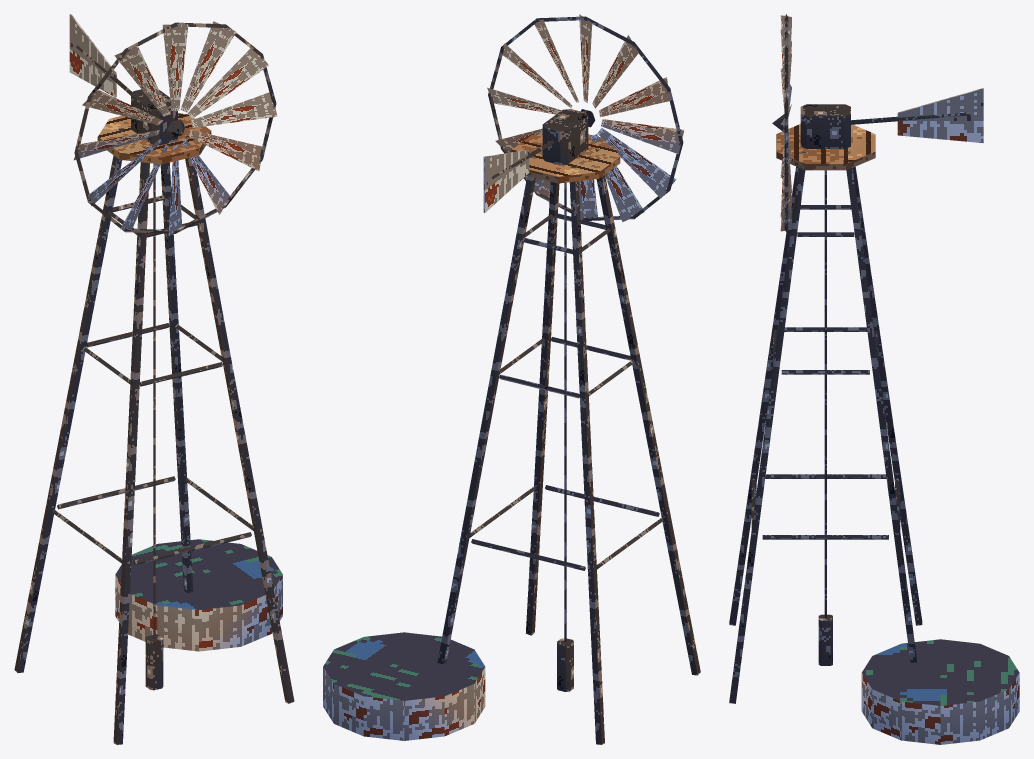
File: wprop.windmill.glb
3 renders of one model, left to right at view 1: azimuth 30°, elevation 25°; view 2: azimuth 150°, elevation 25°; view 3: azimuth 270°, elevation 25°, orthographic. The views are drawn at different scales.
Visible parts, largest first — view 1: kit_legs, kit_tank, kit_card_blades, kit_girts, kit_platform, kit_rim, kit_vane, kit_head, kit_rod, kit_pump; view 2: kit_legs, kit_tank, kit_card_blades, kit_girts, kit_platform, kit_head, kit_rim, kit_vane, kit_rod, kit_pump; view 3: kit_tank, kit_legs, kit_girts, kit_vane, kit_platform, kit_head, kit_card_blades, kit_rod, kit_rim, kit_pump, kit_tail_boom.
Part boxes in pixels (left/top/right/bottom): kit_legs: left=14, top=128, right=294, bottom=744; kit_tank: left=115, top=539, right=282, bottom=651; kit_card_blades: left=73, top=21, right=277, bottom=235; kit_girts: left=52, top=195, right=253, bottom=564; kit_platform: left=97, top=113, right=211, bottom=164; kit_rim: left=74, top=22, right=276, bottom=233; kit_vane: left=69, top=14, right=116, bottom=97; kit_head: left=131, top=89, right=177, bottom=145; kit_rod: left=153, top=163, right=155, bottom=638; kit_pump: left=145, top=634, right=163, bottom=690; kit_legs: left=437, top=148, right=700, bottom=744; kit_tank: left=323, top=632, right=485, bottom=740; kit_card_blades: left=487, top=14, right=684, bottom=222; kit_girts: left=469, top=213, right=663, bottom=570; kit_platform: left=510, top=134, right=620, bottom=183; kit_head: left=542, top=109, right=588, bottom=164; kit_rim: left=488, top=16, right=683, bottom=220; kit_vane: left=483, top=149, right=529, bottom=212; kit_rod: left=564, top=182, right=566, bottom=641; kit_pump: left=557, top=638, right=573, bottom=691; kit_tank: left=861, top=639, right=1019, bottom=744; kit_legs: left=729, top=150, right=922, bottom=703; kit_girts: left=751, top=205, right=900, bottom=539; kit_vane: left=897, top=88, right=983, bottom=143; kit_platform: left=776, top=124, right=875, bottom=170; kit_head: left=800, top=104, right=850, bottom=148; kit_card_blades: left=780, top=15, right=791, bottom=231; kit_rod: left=824, top=170, right=826, bottom=617; kit_rim: left=784, top=14, right=788, bottom=232; kit_pump: left=818, top=614, right=832, bottom=665; kit_tail_boom: left=851, top=112, right=969, bottom=124.
Bounding box in the file's own units: 4.23 × 9.84 × 4.05.
Materials: 5 (5 with a texture image).
